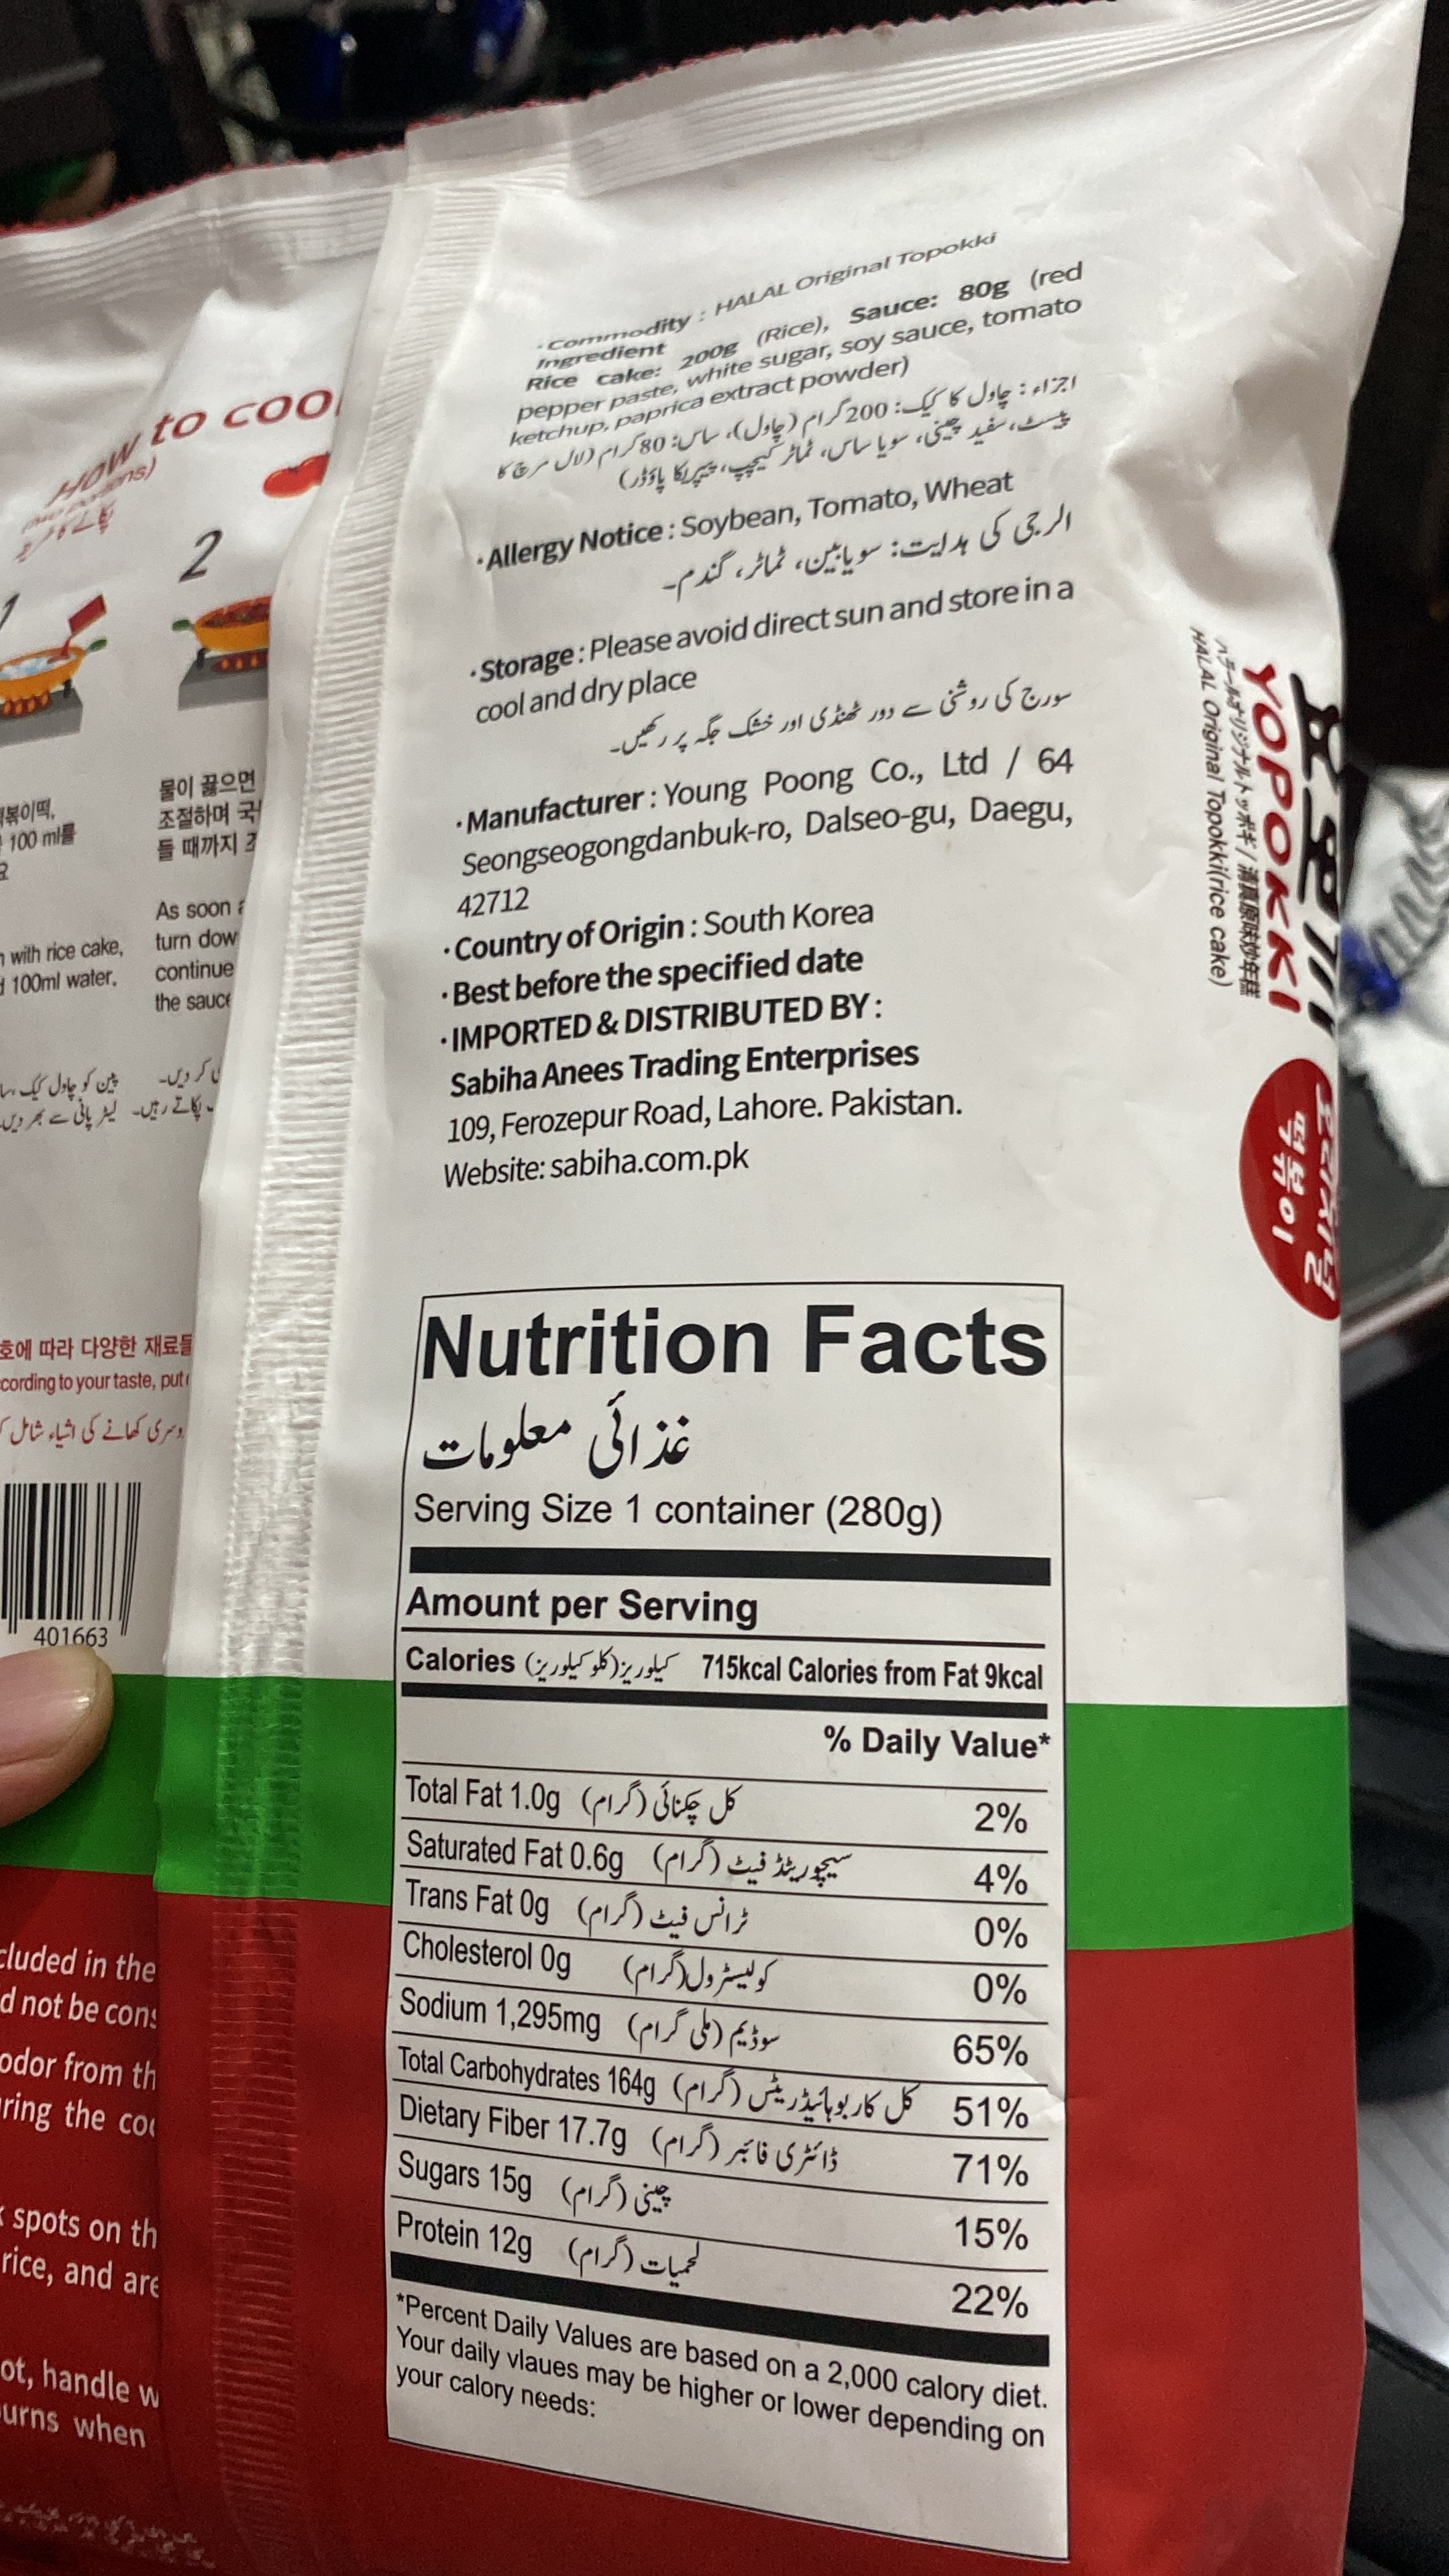table: (375, 1261, 1088, 2565)
